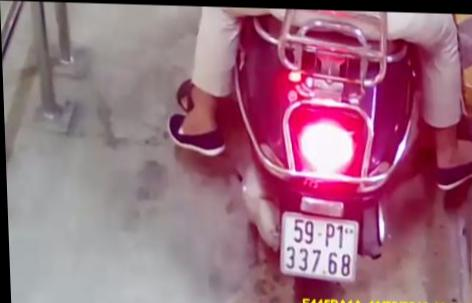LP: (274, 207, 361, 282)
